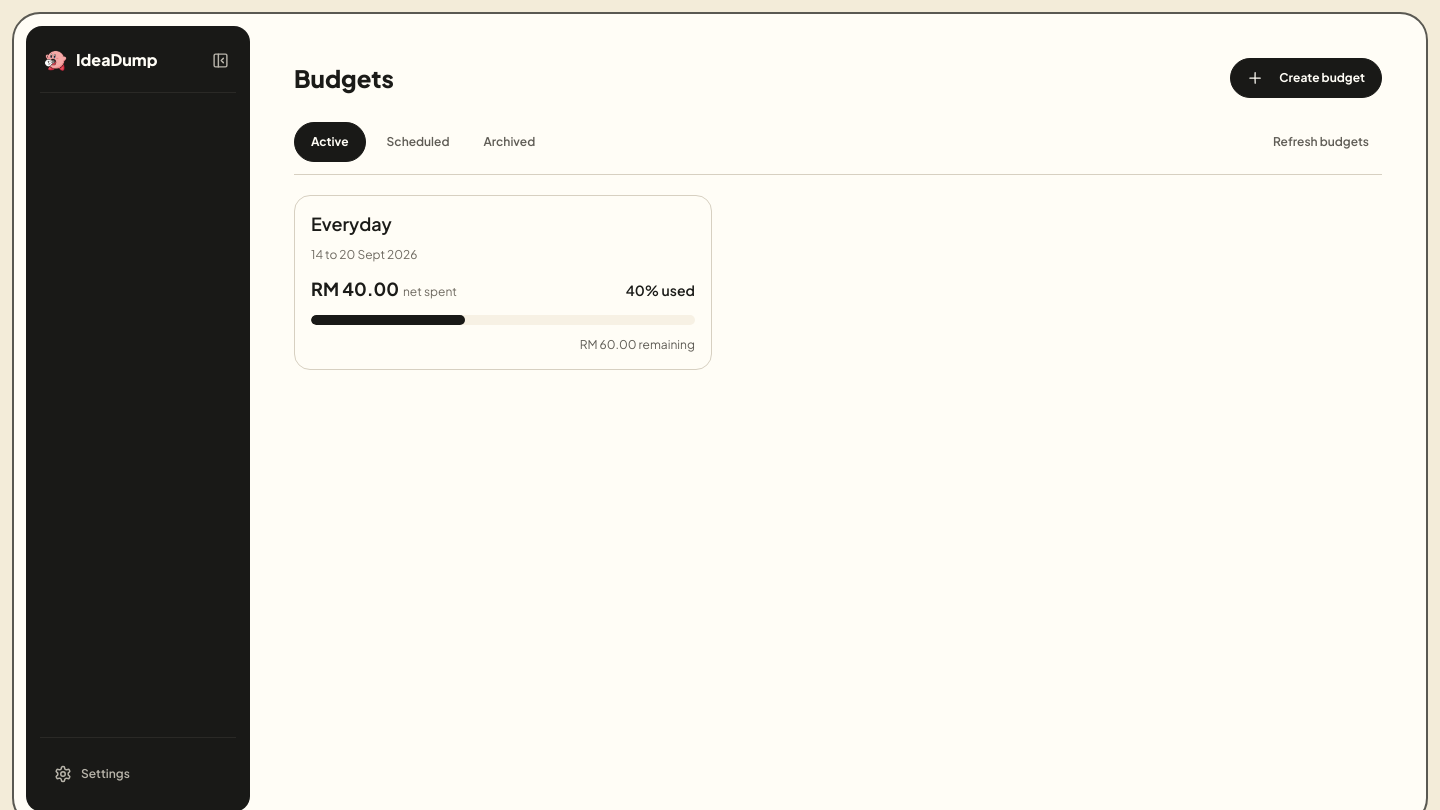
budget list and detail loading › retains lists after failed refresh and retries without loading details
Step 1. Click the button "Refresh budgets" → (1321, 142), box top-left (1260, 122), bottom-right (1382, 162)
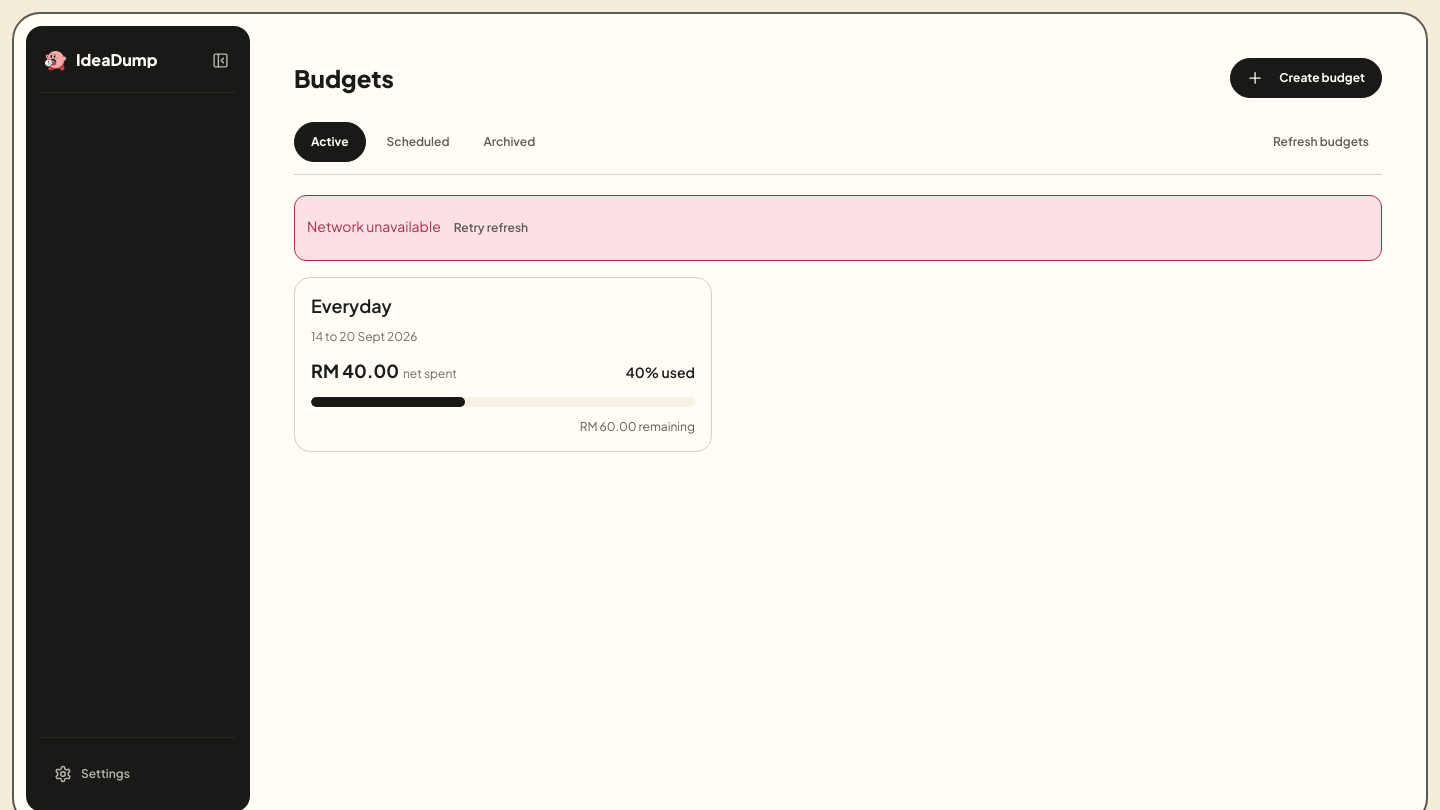
Expected: the button with aria-label "View Everyday" is shown, top-left (294, 277), bottom-right (712, 452)
Now the message shows "Network unavailable", box top-left (307, 217), bottom-right (441, 235)
Step 2. Click the button "Retry refresh" → (491, 228), box top-left (441, 208), bottom-right (541, 248)
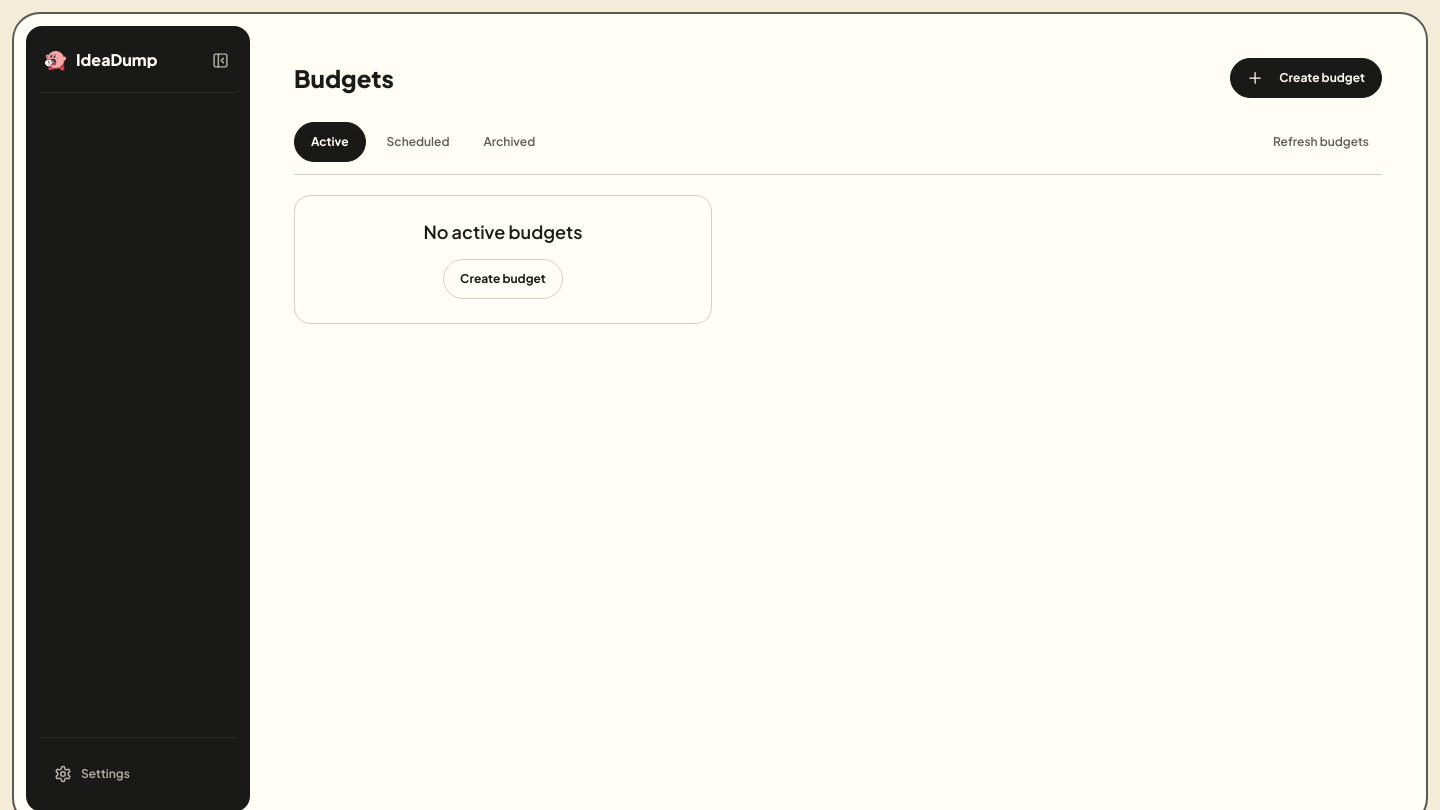
Now the heading "No active budgets" is shown, box top-left (423, 220), bottom-right (583, 243)
Step 3. Click the button "Scheduled" → (418, 142), box top-left (374, 122), bottom-right (462, 162)
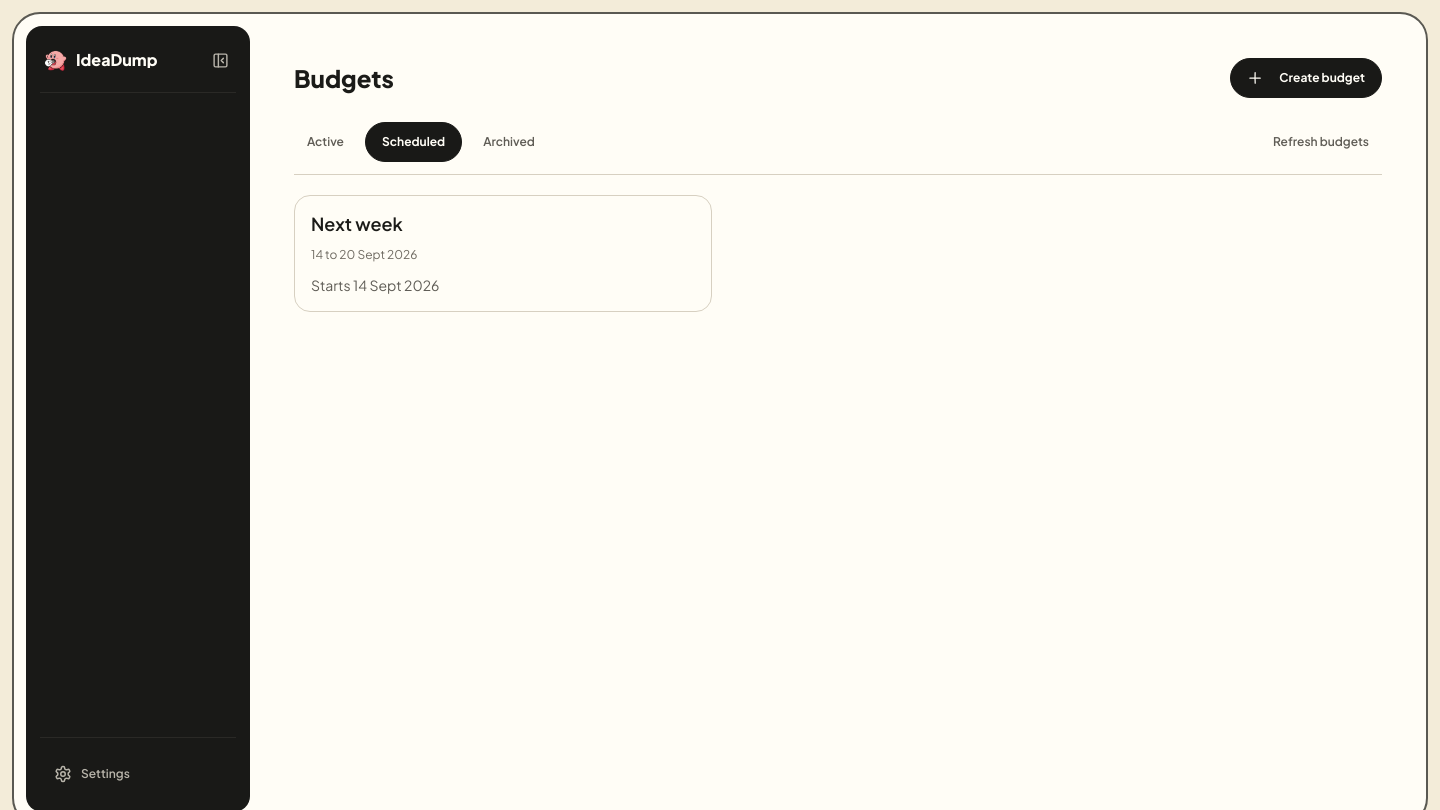
Now the button with aria-label "View Next week" is shown, box top-left (294, 195), bottom-right (712, 312)
